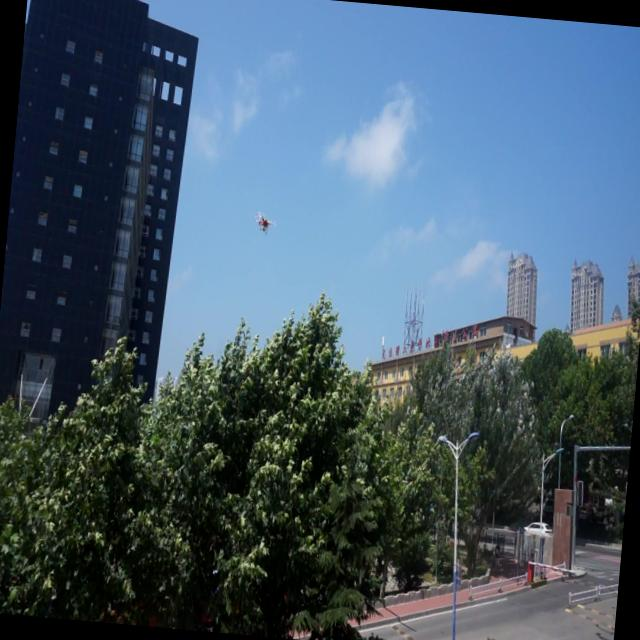drone: (253, 209, 276, 238)
